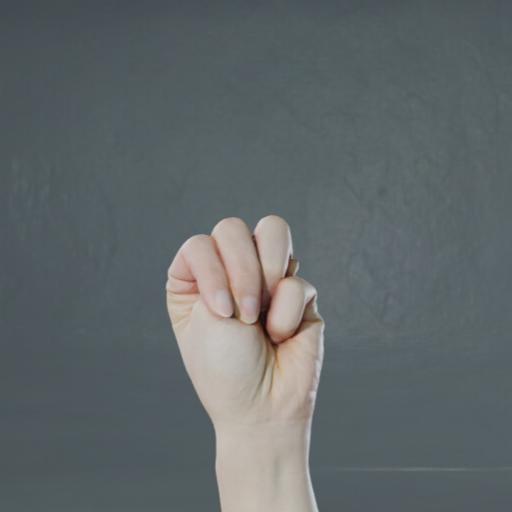M: (140, 188, 343, 512)
